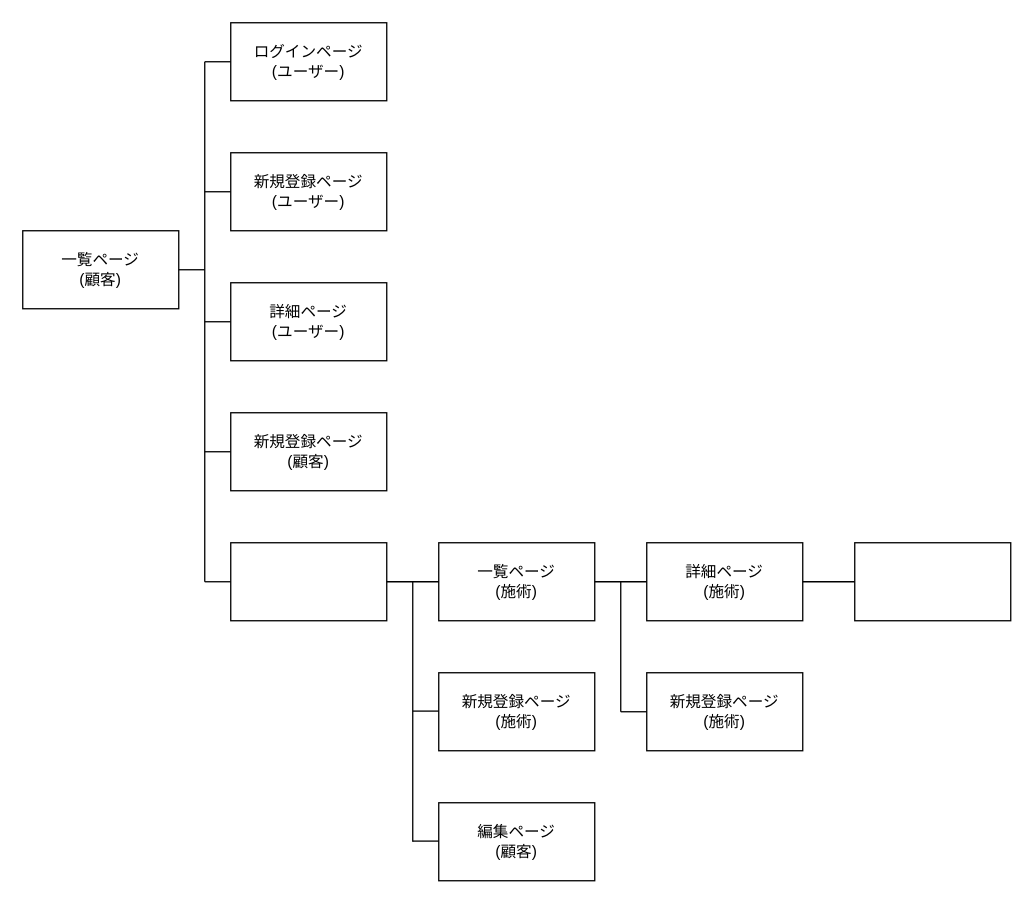
Some shapes in this 1034 by 903 pixel diagram are drawn without their labels. Here are the shapes that lost their labels. From the top down, the centre of each, then its label:
the point at 308,581: 詳細ページ (顧客)
the point at 932,581: 編集ページ (施術)
